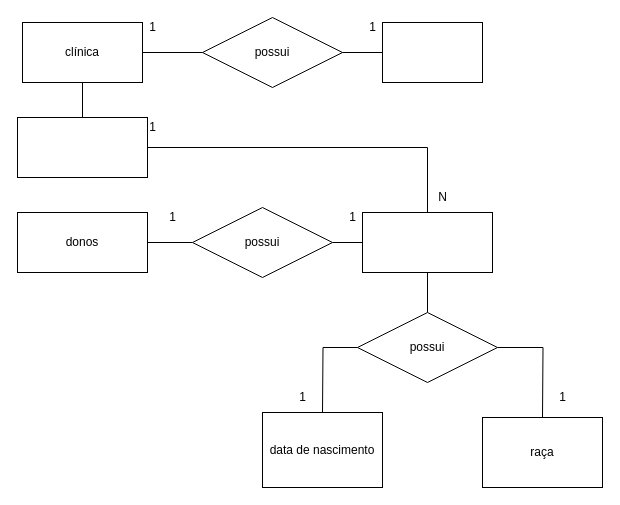
Image size: 620x505. Some labels were removed from this diagram. Here are the shapes that lost their labels. From the top down, the centre of each, then its label:
point 432,52: endereço
point 82,147: cadastrar
point 427,242: pet
